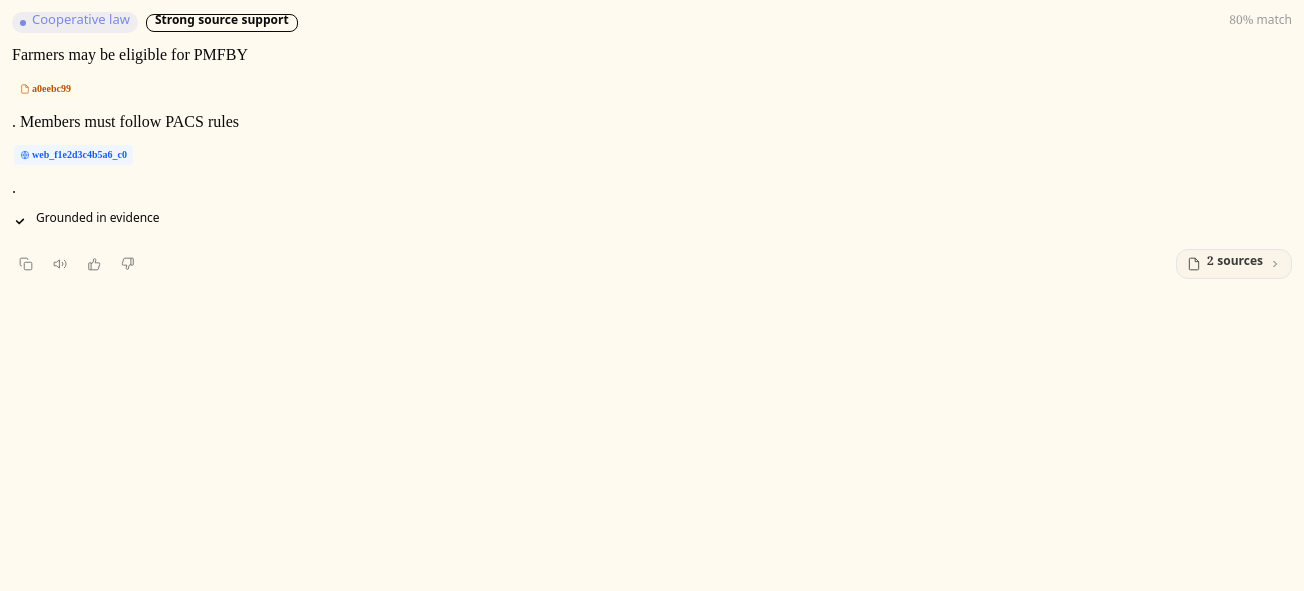
Test: evidence card toggle is a keyboard-focusable button
Click the button with aria-label "evidence for citation a0eebc99": coordinates (45, 89) x1=14 y1=79 x2=77 y2=98
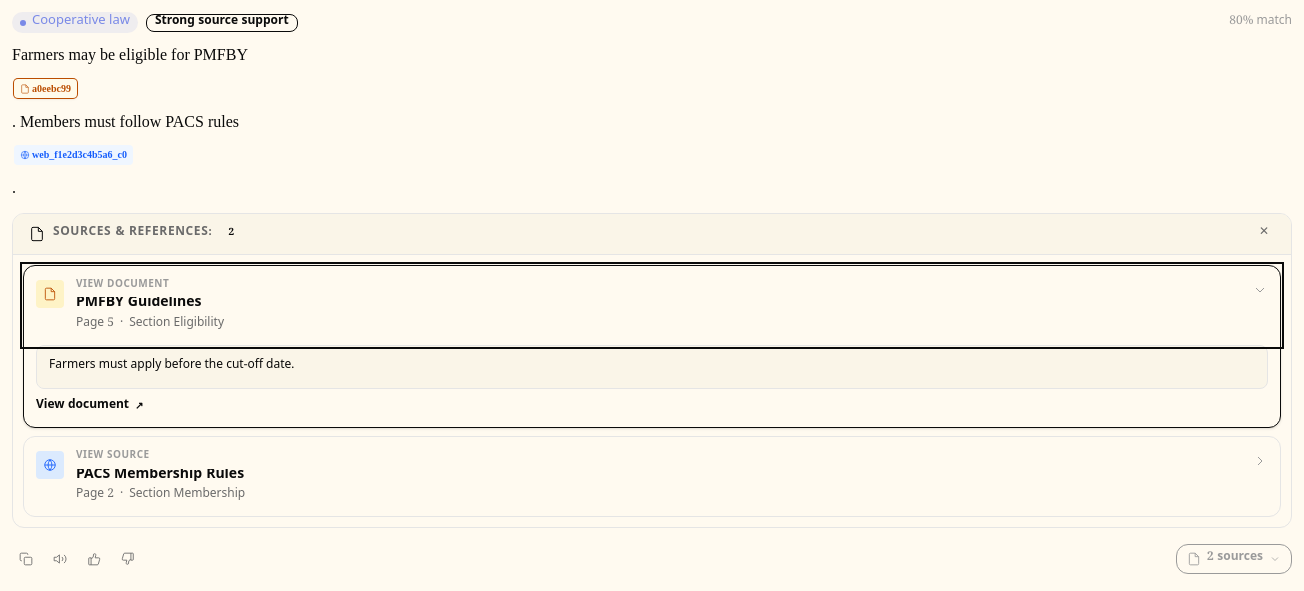
Now the button "View document PMFBY Guidelines Page 5·Section Eligibility" is shown, box x1=24 y1=266 x2=1280 y2=345
